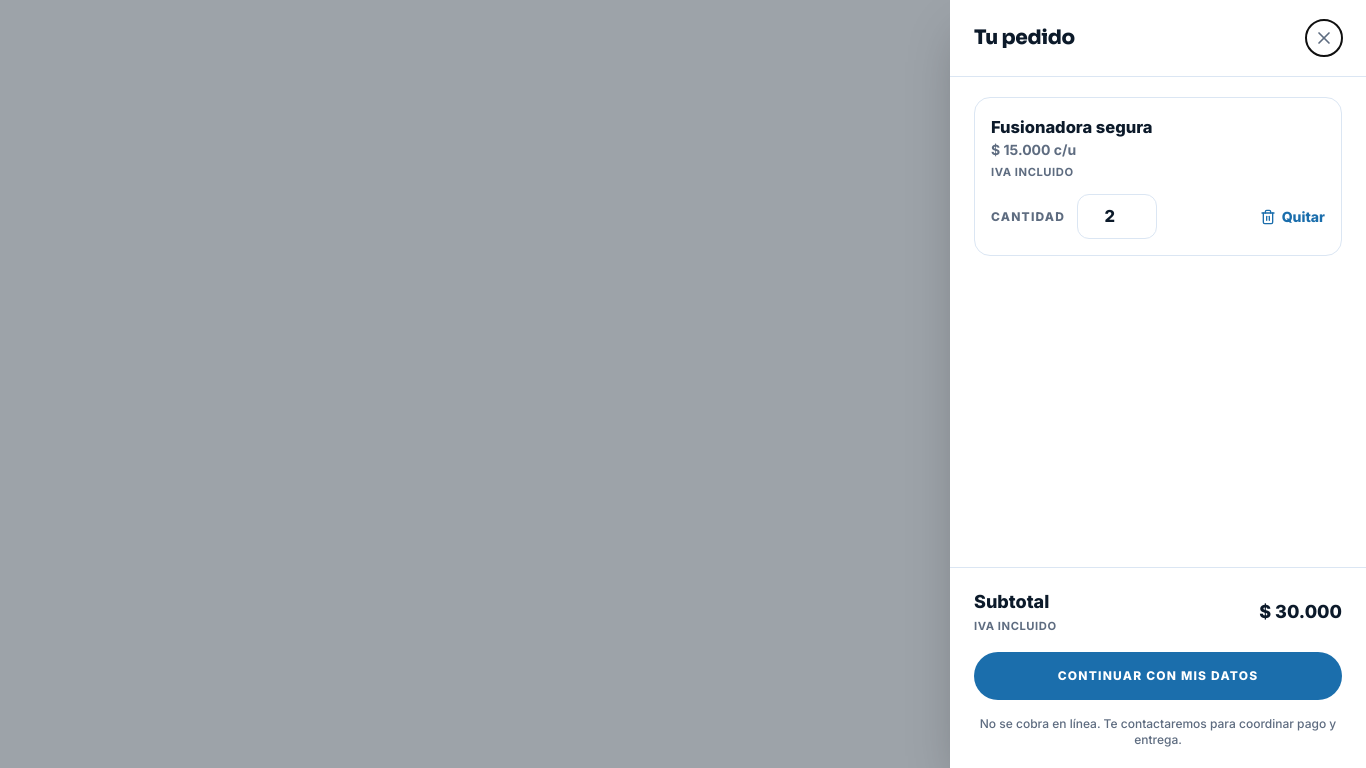
Test case: CartDrawer cart step › removes an item and falls back to the empty state
This screenshot has width=1366, height=768.
Click the button with aria-label "Quitar Fusionadora segura del pedido" at (1292, 216), box 1260,206 -> 1325,226
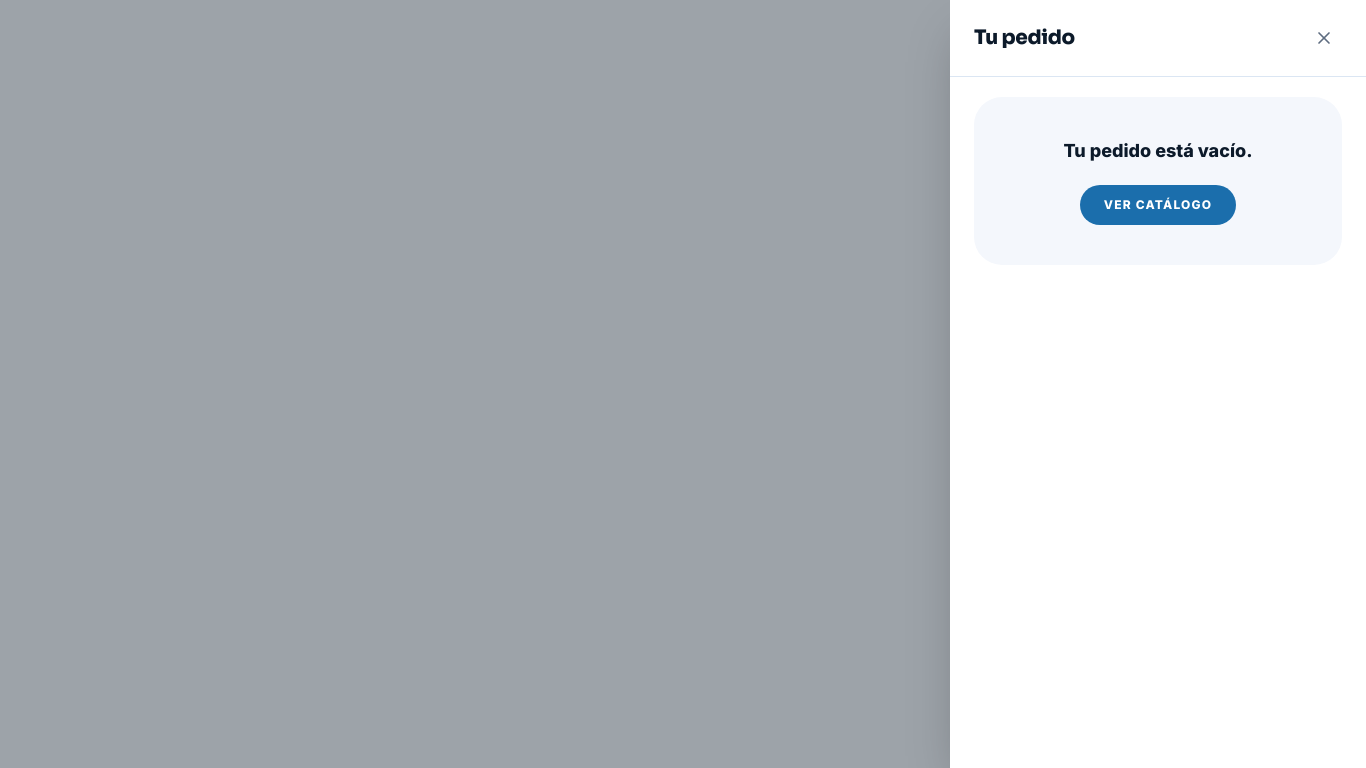
expect the text "Tu pedido está vacío." is shown: met, box 1064,140 -> 1252,161
